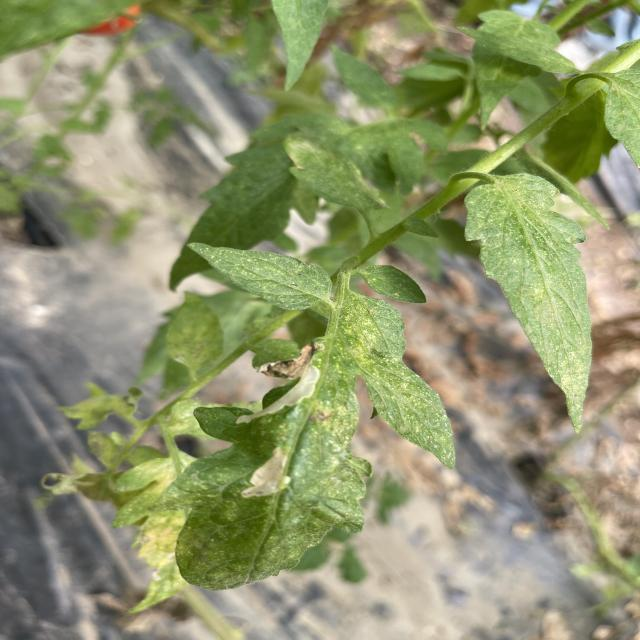Tuta absoluta: (254, 362, 329, 433), (237, 446, 300, 512)
